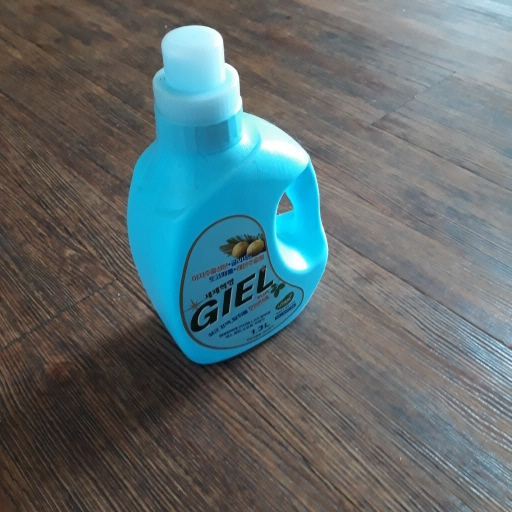Plastic_1: (127, 26, 329, 371)
